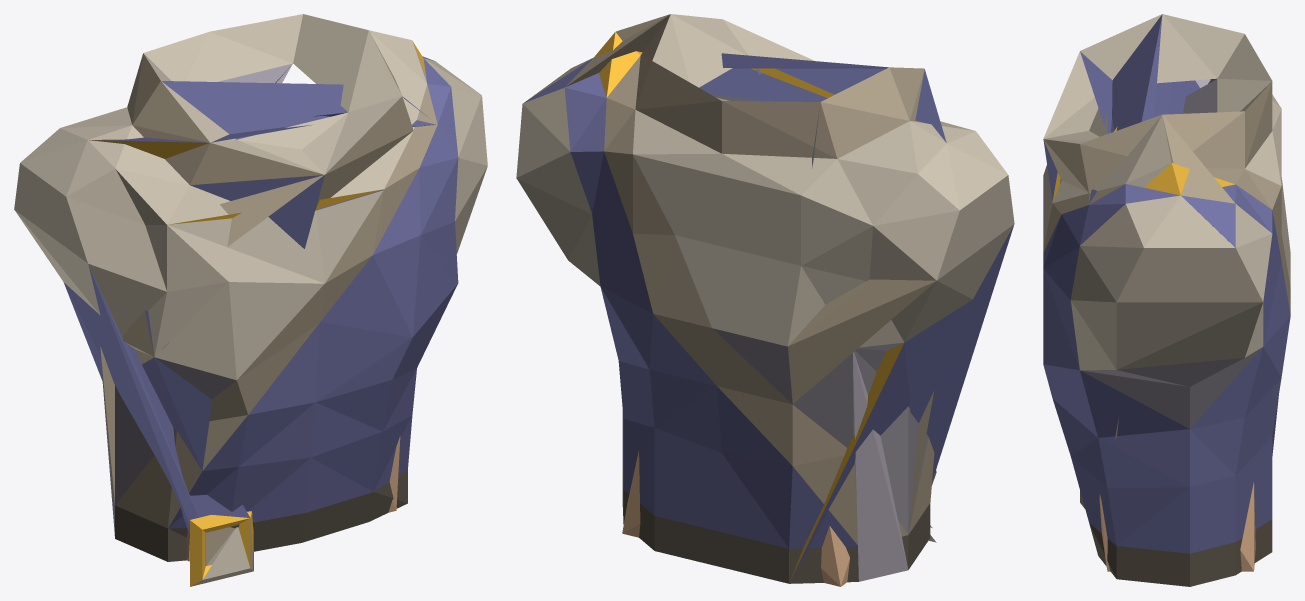
Rendered from player_ancestral_robe_top.glb.
3 renders of one model, left to right at view 1: azimuth 30°, elevation 25°; view 2: azimuth 150°, elevation 25°; view 3: azimuth 270°, elevation 25°, orthographic. The views are drawn at different scales.
Bounding box in the file's own units: 52 × 57 × 27.01.
1 material, 1 textured.
